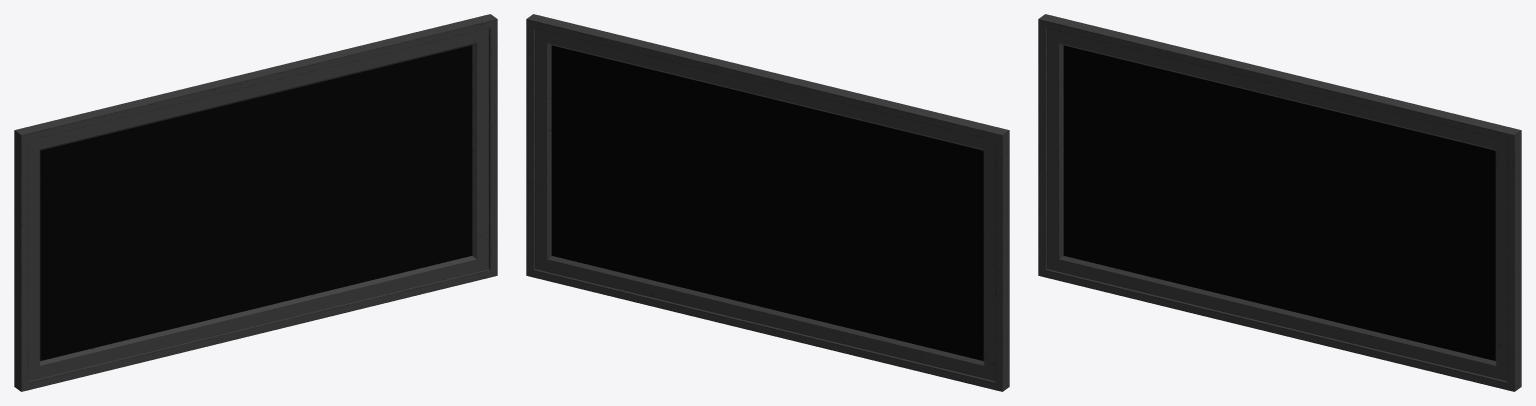
Rendered from window.glb.
3 renders of one model, left to right at view 1: azimuth 30°, elevation 25°; view 2: azimuth 150°, elevation 25°; view 3: azimuth 330°, elevation 25°, orthographic.
Parts seen in each view (by area): view 1: GS_Office_Window; view 2: GS_Office_Window; view 3: GS_Office_Window.
Boxes of the visible parts, x1=… form: GS_Office_Window: x1=14, y1=14, x2=497, y2=391; GS_Office_Window: x1=526, y1=14, x2=1009, y2=391; GS_Office_Window: x1=1038, y1=14, x2=1521, y2=391.
Size of the model in its own units: 2.51 by 1.3 by 0.0637.
1 material, 1 textured.
